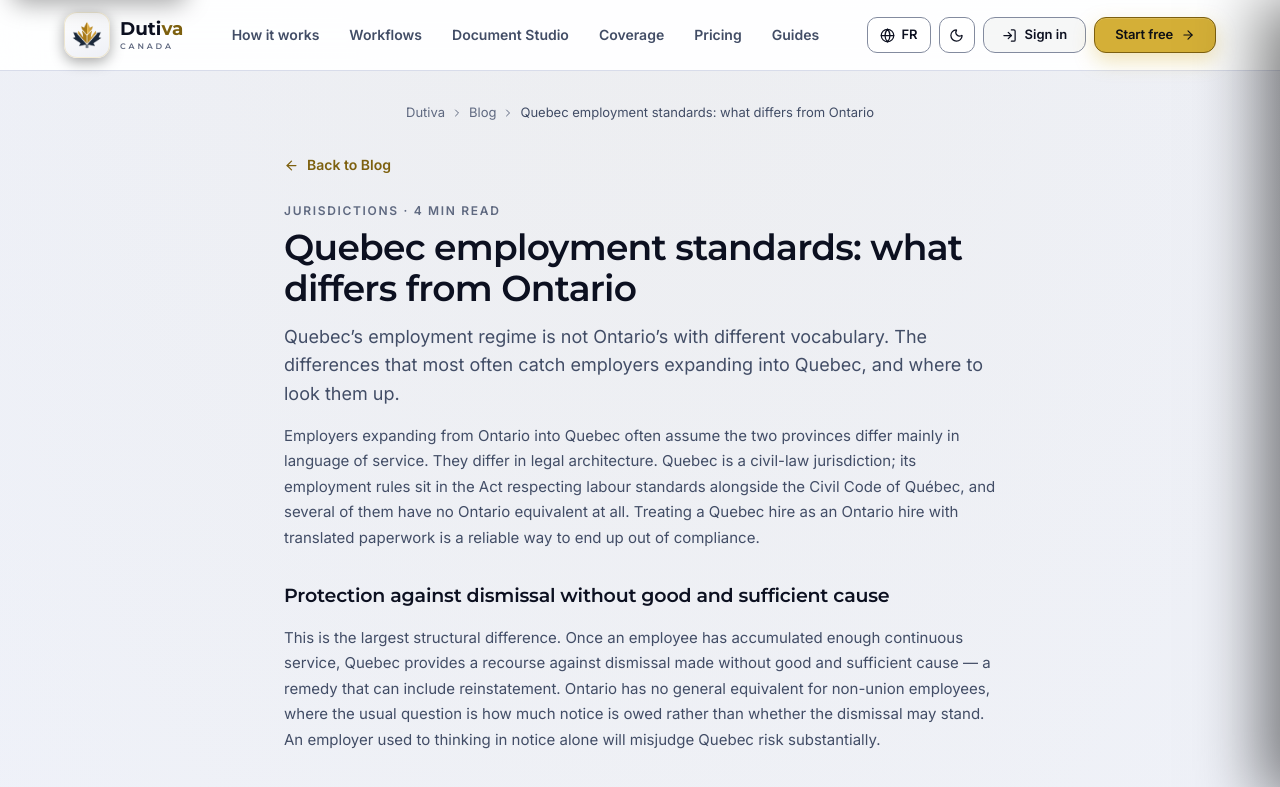
Test: ArticlePage › renders French copy and French links once the language is French
This screenshot has width=1280, height=787.
What coordinates should you click on to do the following:
click the button with aria-label "Toggle language"
I would click on:
 (899, 35)
Its box is [868,17,931,53].
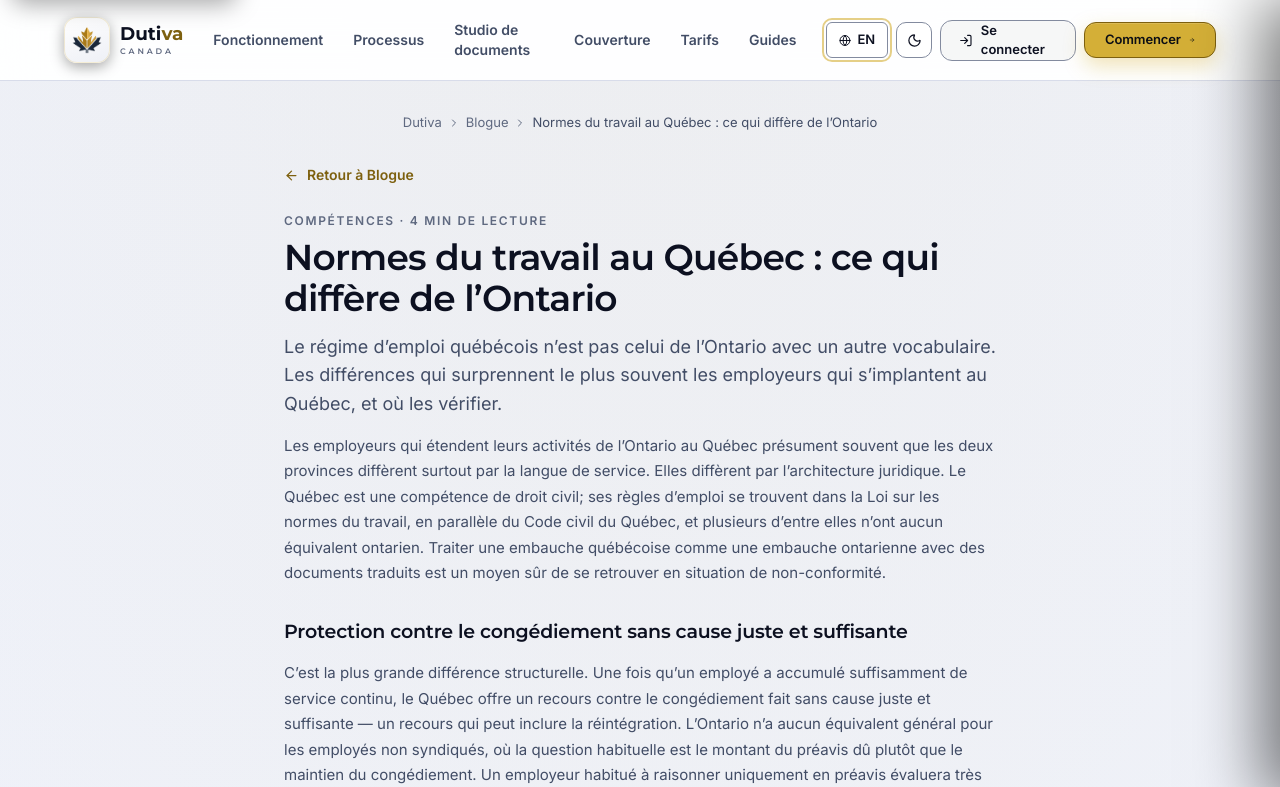
Now the heading "Normes du travail au Québec : ce qui diffère de l’Ontario" is shown, box [284,236,996,319]
Now the text "Le régime d’emploi québécois n’est pas celui de l’Ontario avec un autre vocabulaire. Les différences qui surprennent le " is shown, box [284,336,996,414]
